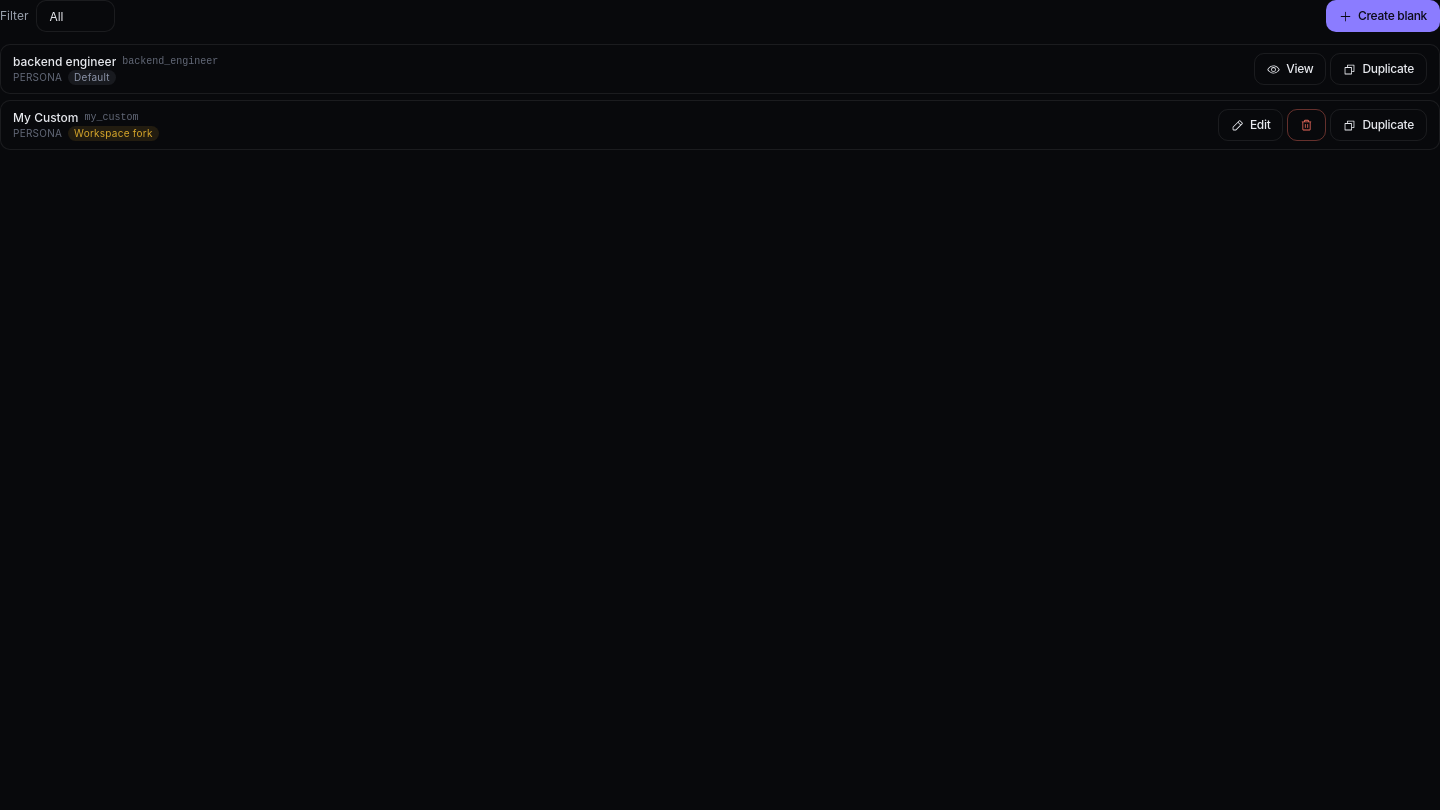
it: TemplateManager (TPL-1/2 UI) › Edit dialog toggles between edit (textarea) and rendered preview
Expected: the text "My Custom" is shown, [13,110,78,126]
Step 1. Click the button with aria-label "Edit My Custom" → [1251, 125], box [1218,109,1284,141]
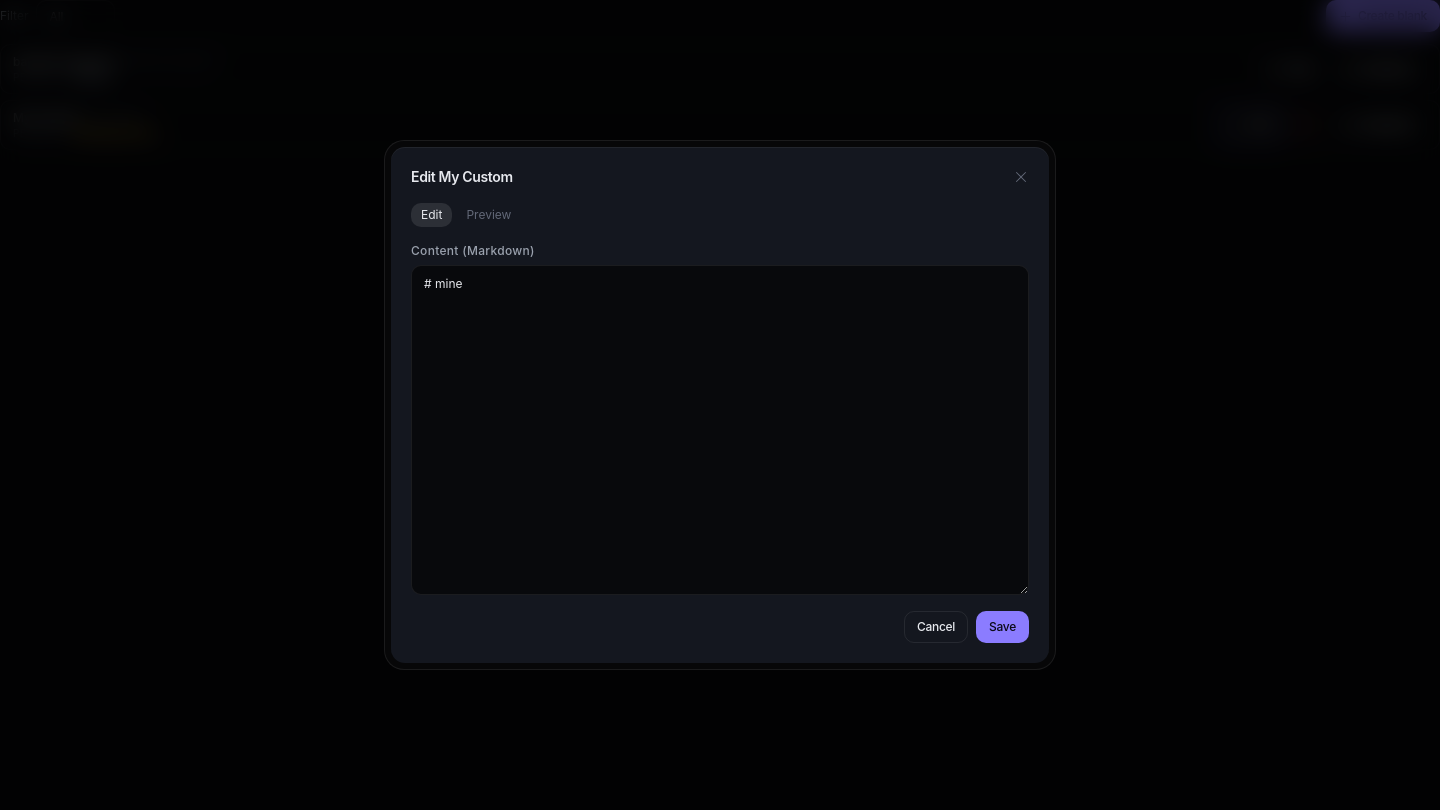
Result: the text box holds "# mine" at [411,265,1029,595]
Switch to preview → rendered heading, no textbox.
Step 2. Click the tab "preview" → [489, 215], box [456,203,521,227]
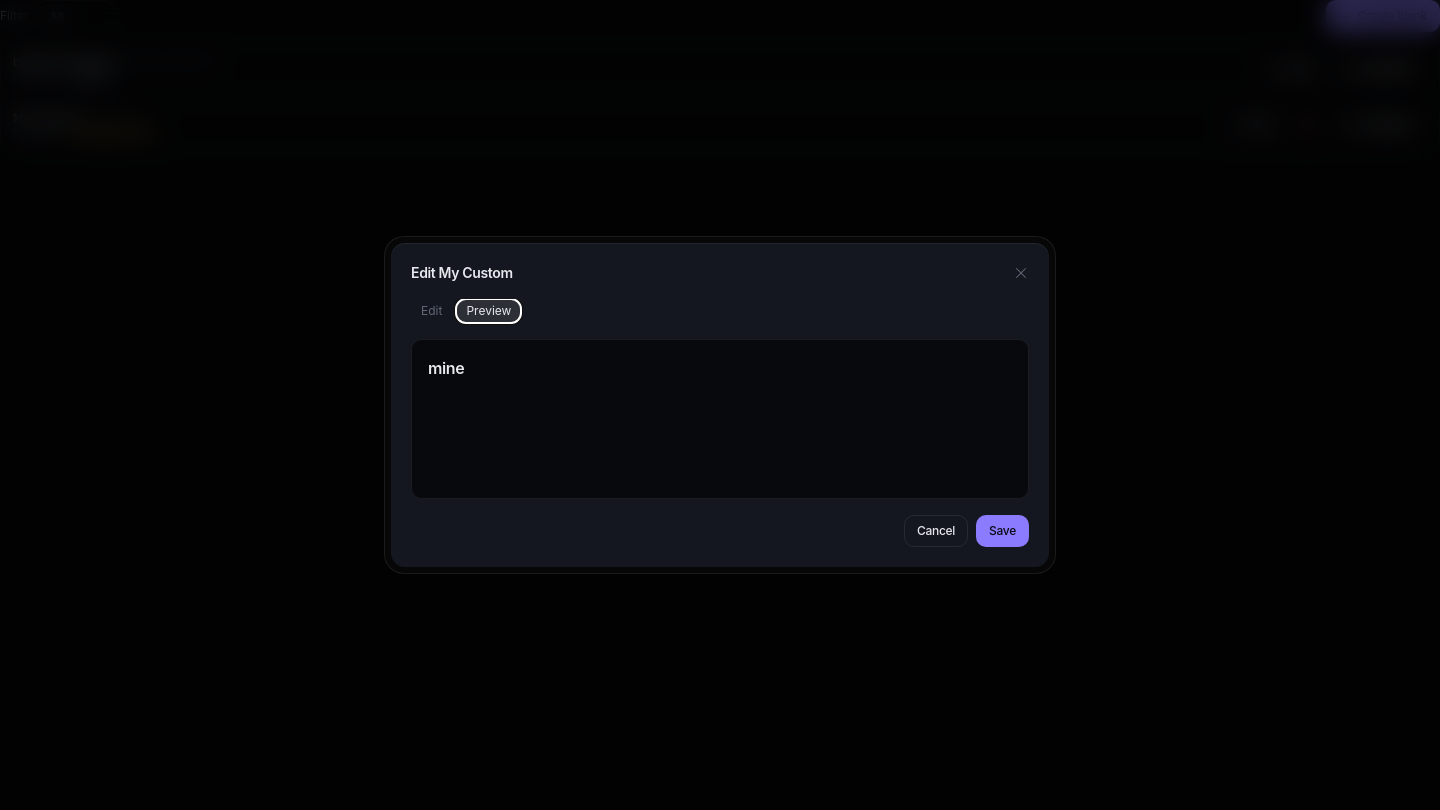
Result: the heading "mine" is shown at [428,358,464,378]
